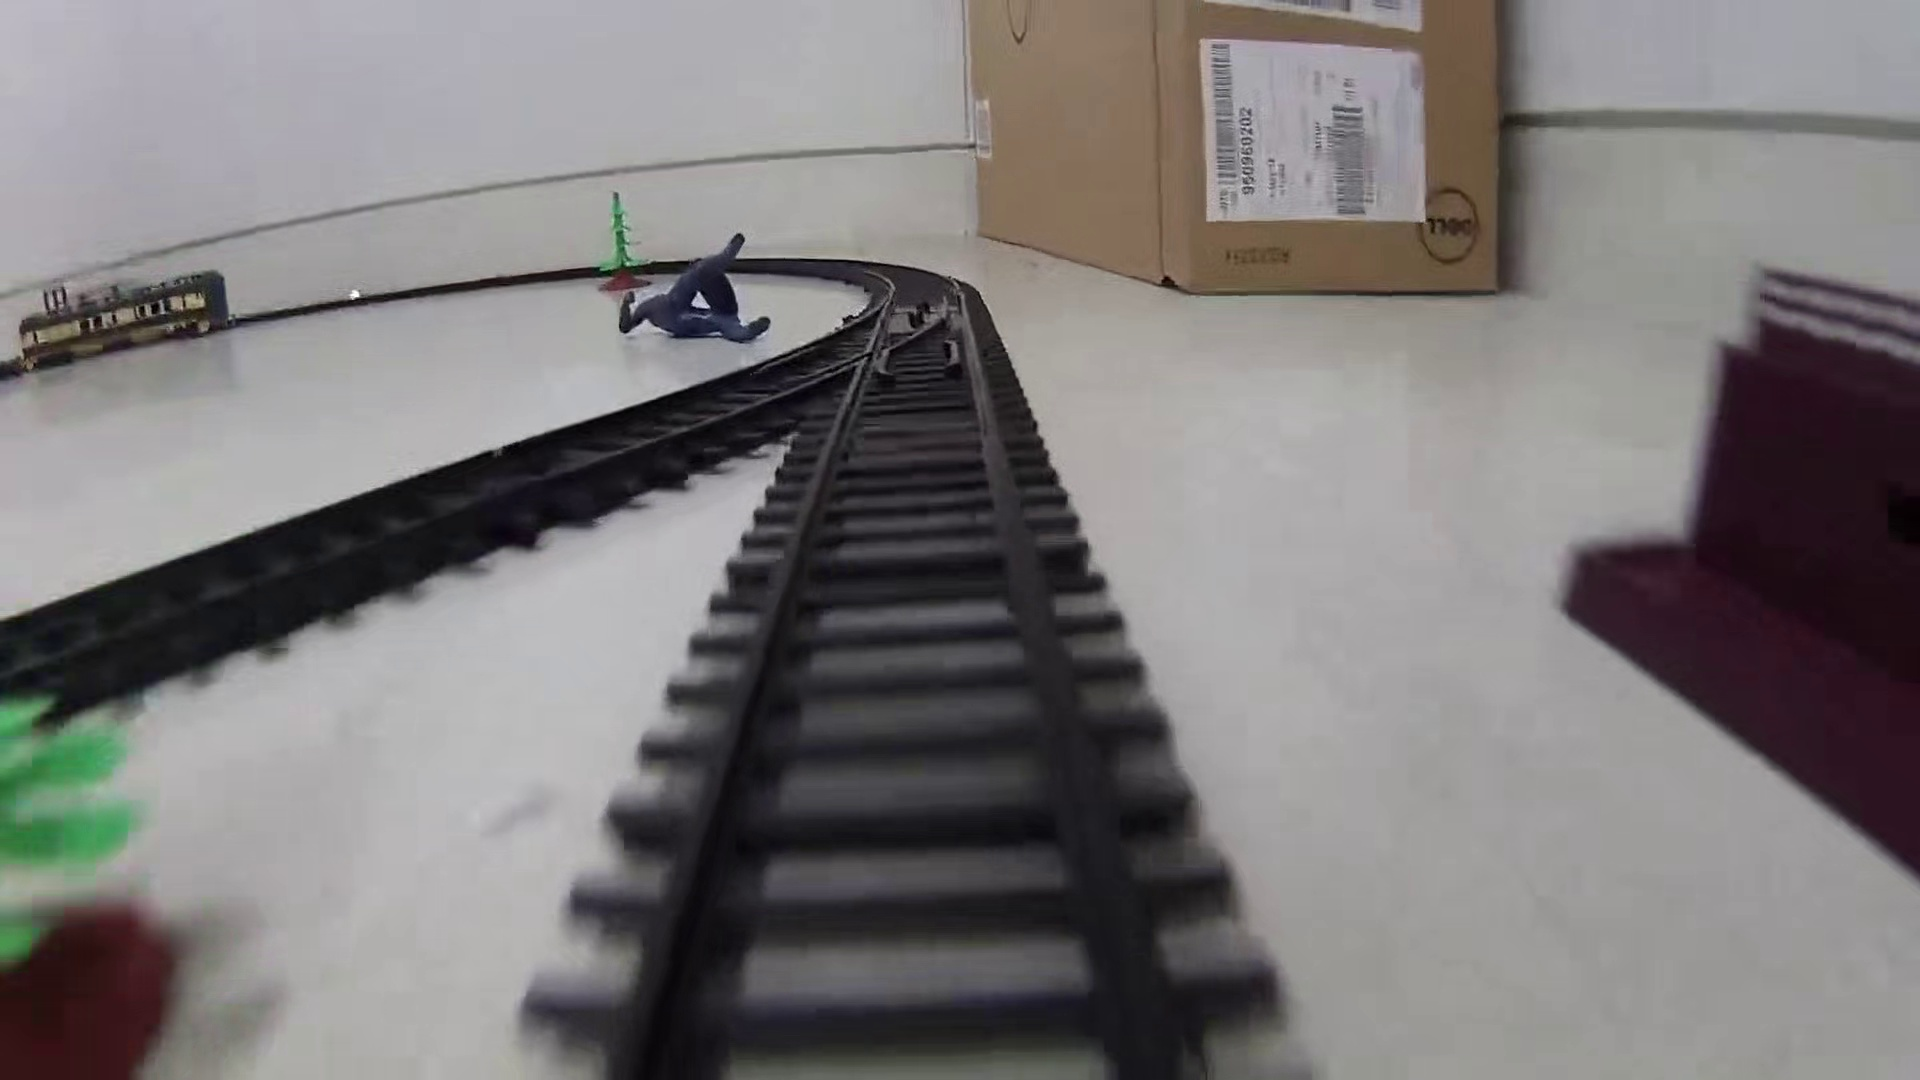people: (616, 235, 775, 346)
tree: (596, 188, 657, 297)
